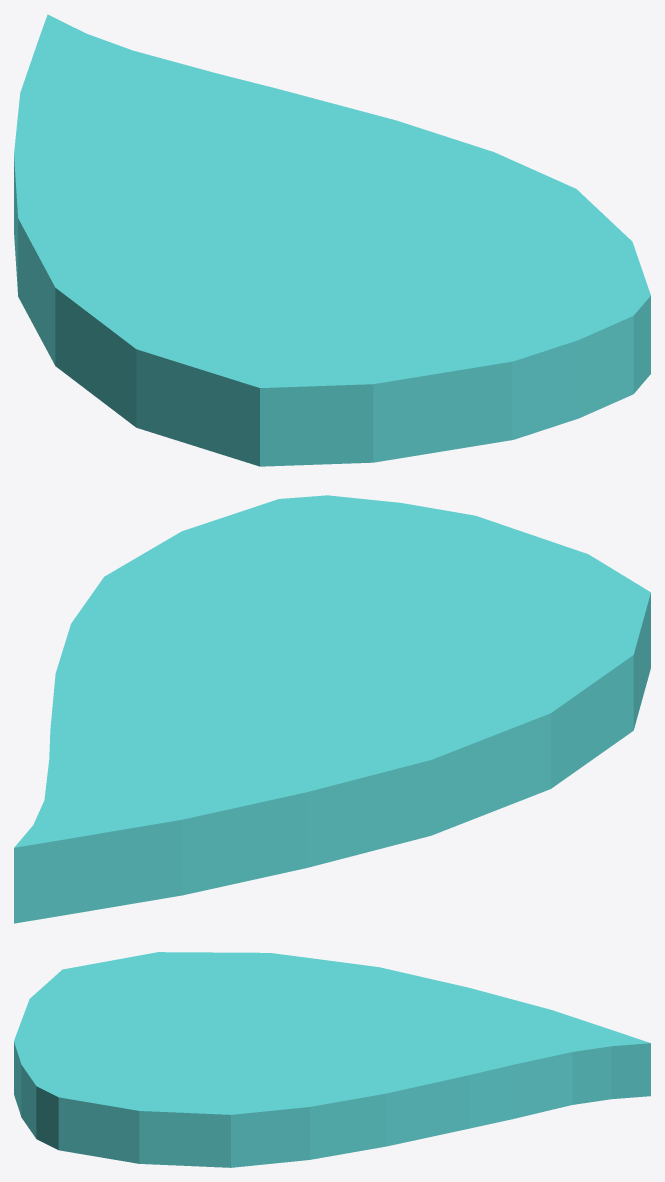
File: waterdrop.fbx
3 views of the same model, one above another, from view 1: azimuth 30°, elevation 25°; view 2: azimuth 150°, elevation 25°; view 3: azimuth 270°, elevation 25° (orthographic). The views are drawn at different scales.
Visible parts, largest first — view 1: Cube; view 2: Cube; view 3: Cube.
Part boxes in pixels (x1,y1,x2,y2): Cube: [14, 14, 650, 466]; Cube: [14, 495, 650, 923]; Cube: [14, 952, 650, 1167].
Size of the model in its own units: 162 by 24.56 by 268.
